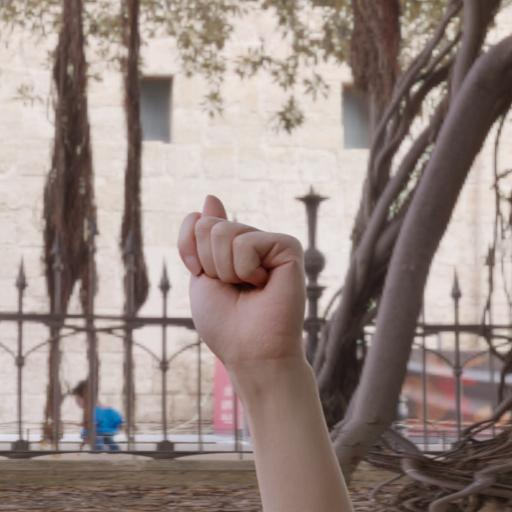T: (171, 184, 329, 396)
